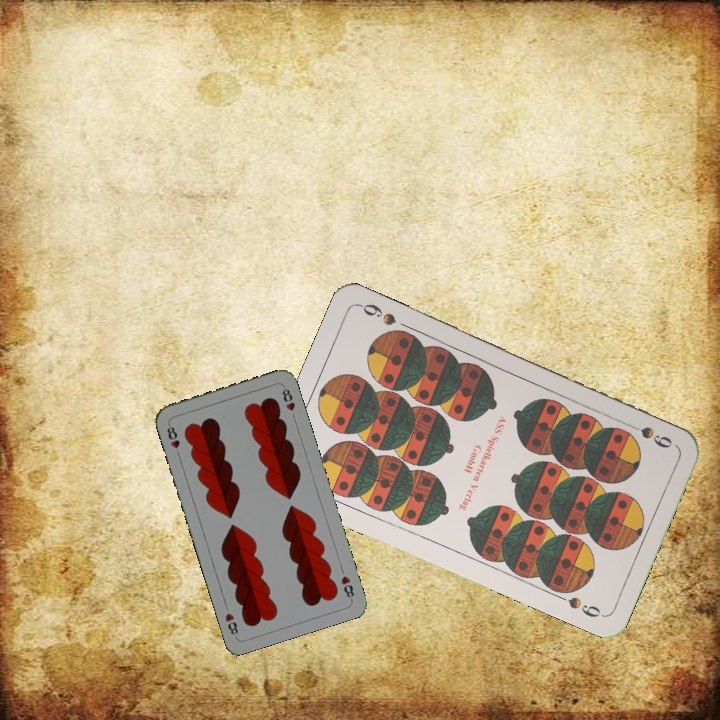H8: (163, 420, 183, 459), (337, 571, 357, 602)
S9: (620, 418, 676, 451)
